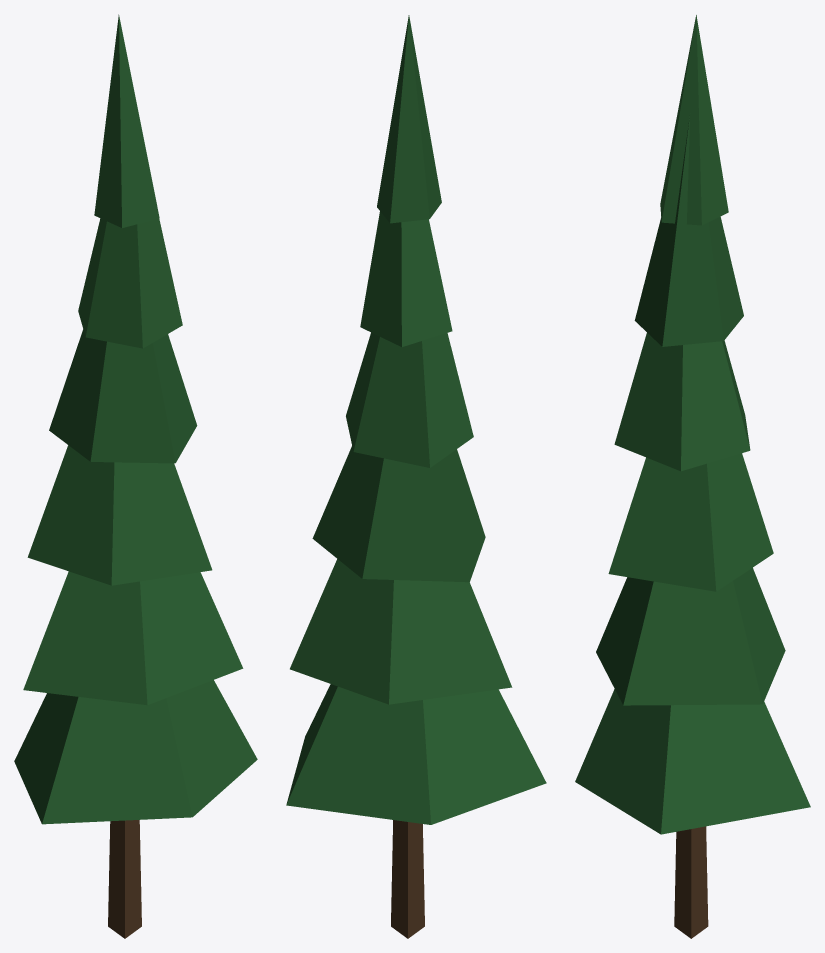
Rendered from spruce-b.obj.
The picture shows the model from 3 angles, left to right: view 1: azimuth 30°, elevation 25°; view 2: azimuth 150°, elevation 25°; view 3: azimuth 270°, elevation 25°; orthographic projection.
Visible parts, largest first — view 1: b_branch_whorl_1, b_branch_whorl_2, b_branch_whorl_3, b_branch_whorl_4, b_branch_whorl_5, b_branch_whorl_6, Trunk_b; view 2: b_branch_whorl_1, b_branch_whorl_2, b_branch_whorl_3, b_branch_whorl_4, b_branch_whorl_5, b_branch_whorl_6, Trunk_b; view 3: b_branch_whorl_1, b_branch_whorl_2, b_branch_whorl_3, b_branch_whorl_4, b_branch_whorl_5, b_branch_whorl_6, Trunk_b.
Boxes of the visible parts, x1,y1,x2,y2 form: b_branch_whorl_1: (14, 680, 257, 824); b_branch_whorl_2: (23, 571, 243, 705); b_branch_whorl_3: (27, 445, 212, 585); b_branch_whorl_4: (49, 329, 197, 463); b_branch_whorl_5: (78, 218, 182, 348); b_branch_whorl_6: (94, 14, 159, 227); Trunk_b: (108, 820, 141, 938); b_branch_whorl_1: (286, 684, 546, 824); b_branch_whorl_2: (290, 559, 512, 704); b_branch_whorl_3: (312, 446, 485, 582); b_branch_whorl_4: (346, 332, 473, 467); b_branch_whorl_5: (360, 211, 452, 346); b_branch_whorl_6: (377, 15, 441, 223); Trunk_b: (391, 820, 424, 938); b_branch_whorl_1: (575, 689, 810, 834); b_branch_whorl_2: (596, 567, 785, 705); b_branch_whorl_3: (608, 453, 773, 591); b_branch_whorl_4: (614, 333, 750, 471); b_branch_whorl_5: (634, 113, 743, 346); b_branch_whorl_6: (660, 15, 728, 225); Trunk_b: (674, 826, 708, 938).
Bounding box in the file's own units: 0.8711 × 3.34 × 0.7806.
